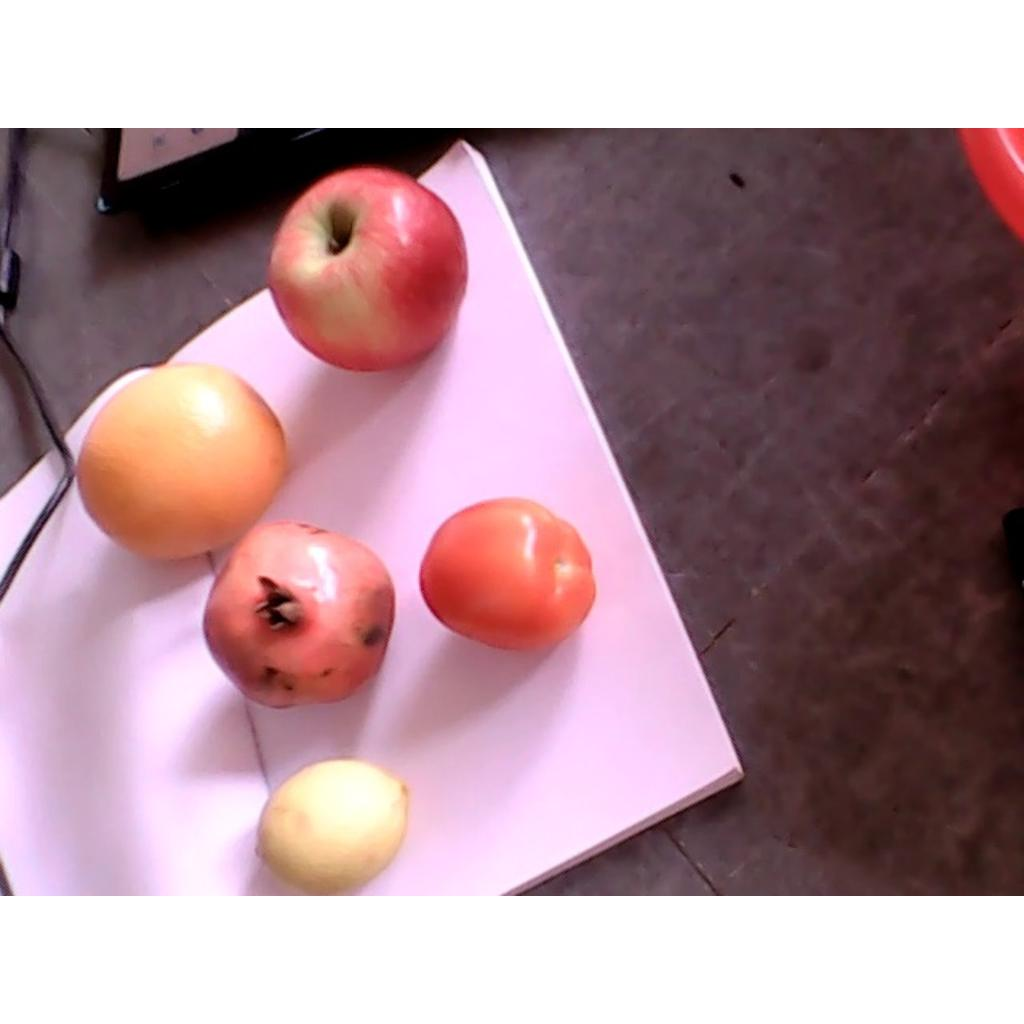apple: (265, 166, 468, 376)
lemon: (258, 757, 406, 892)
orange: (78, 364, 291, 566)
pomegranate: (204, 519, 396, 711)
tomato: (416, 500, 597, 656)
